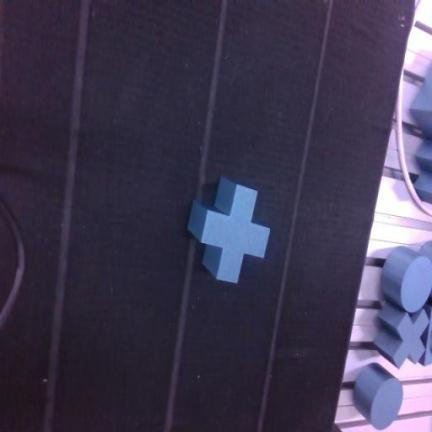cross: (189, 177, 269, 282), (375, 304, 429, 367)
